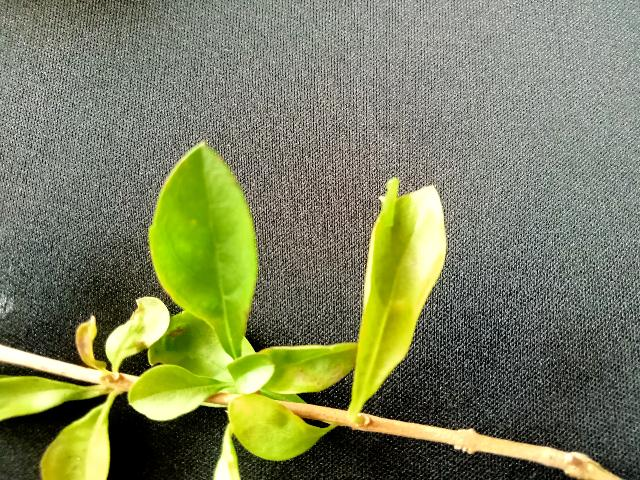pylokantus: (1, 108, 640, 480)
